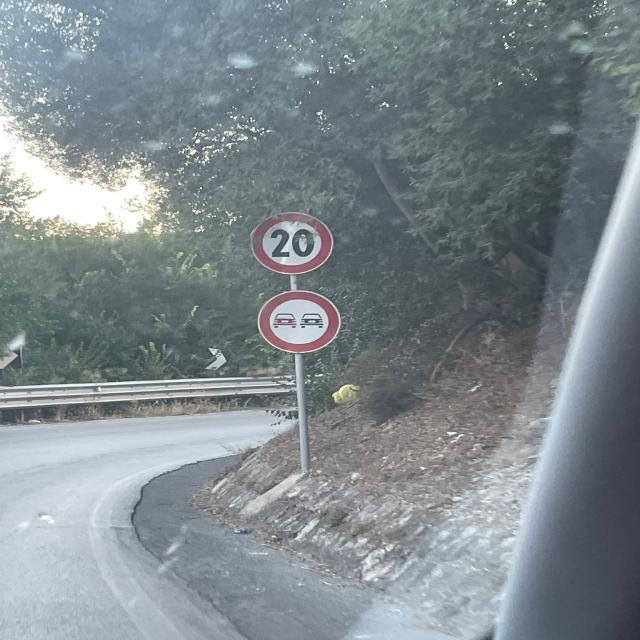forb_overtake: (257, 289, 343, 356)
forb_speed_over_20: (250, 211, 337, 276)
